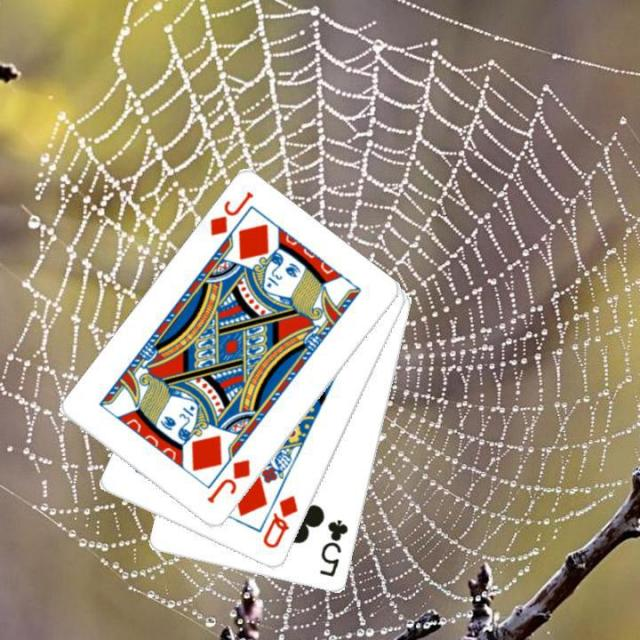5C: (316, 516, 350, 580)
JD: (205, 188, 256, 238), (202, 456, 252, 506)
QD: (258, 492, 300, 551)
